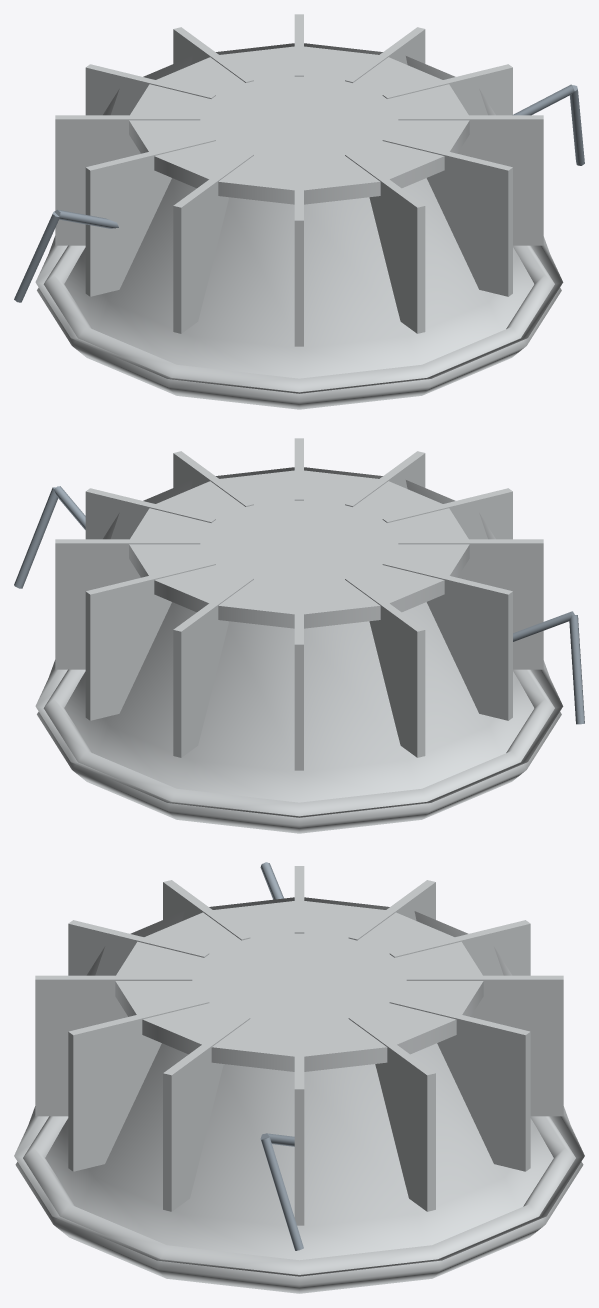
The model's file is source.glb.
3 views of the same model, one above another, from view 1: azimuth 30°, elevation 25°; view 2: azimuth 150°, elevation 25°; view 3: azimuth 270°, elevation 25° (orthographic). The views are drawn at different scales.
Parts seen in each view (by area): view 1: 粉末涂层铝壳, 机加工金属; view 2: 粉末涂层铝壳, 机加工金属; view 3: 粉末涂层铝壳, 机加工金属.
Part boxes in pixels (x1,y1,x2,y2): 粉末涂层铝壳: (35, 14, 563, 409); 机加工金属: (14, 84, 584, 302); 粉末涂层铝壳: (35, 438, 563, 833); 机加工金属: (14, 486, 584, 724); 粉末涂层铝壳: (14, 866, 584, 1293); 机加工金属: (260, 862, 303, 1250).
Size of the model in its own units: 0.1172 by 0.0371 by 0.094.
